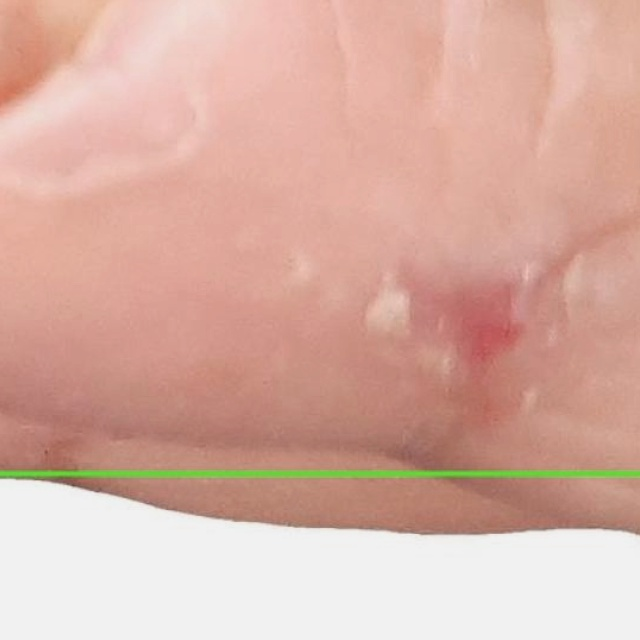Contact Dermatitis: (0, 473, 639, 639)
